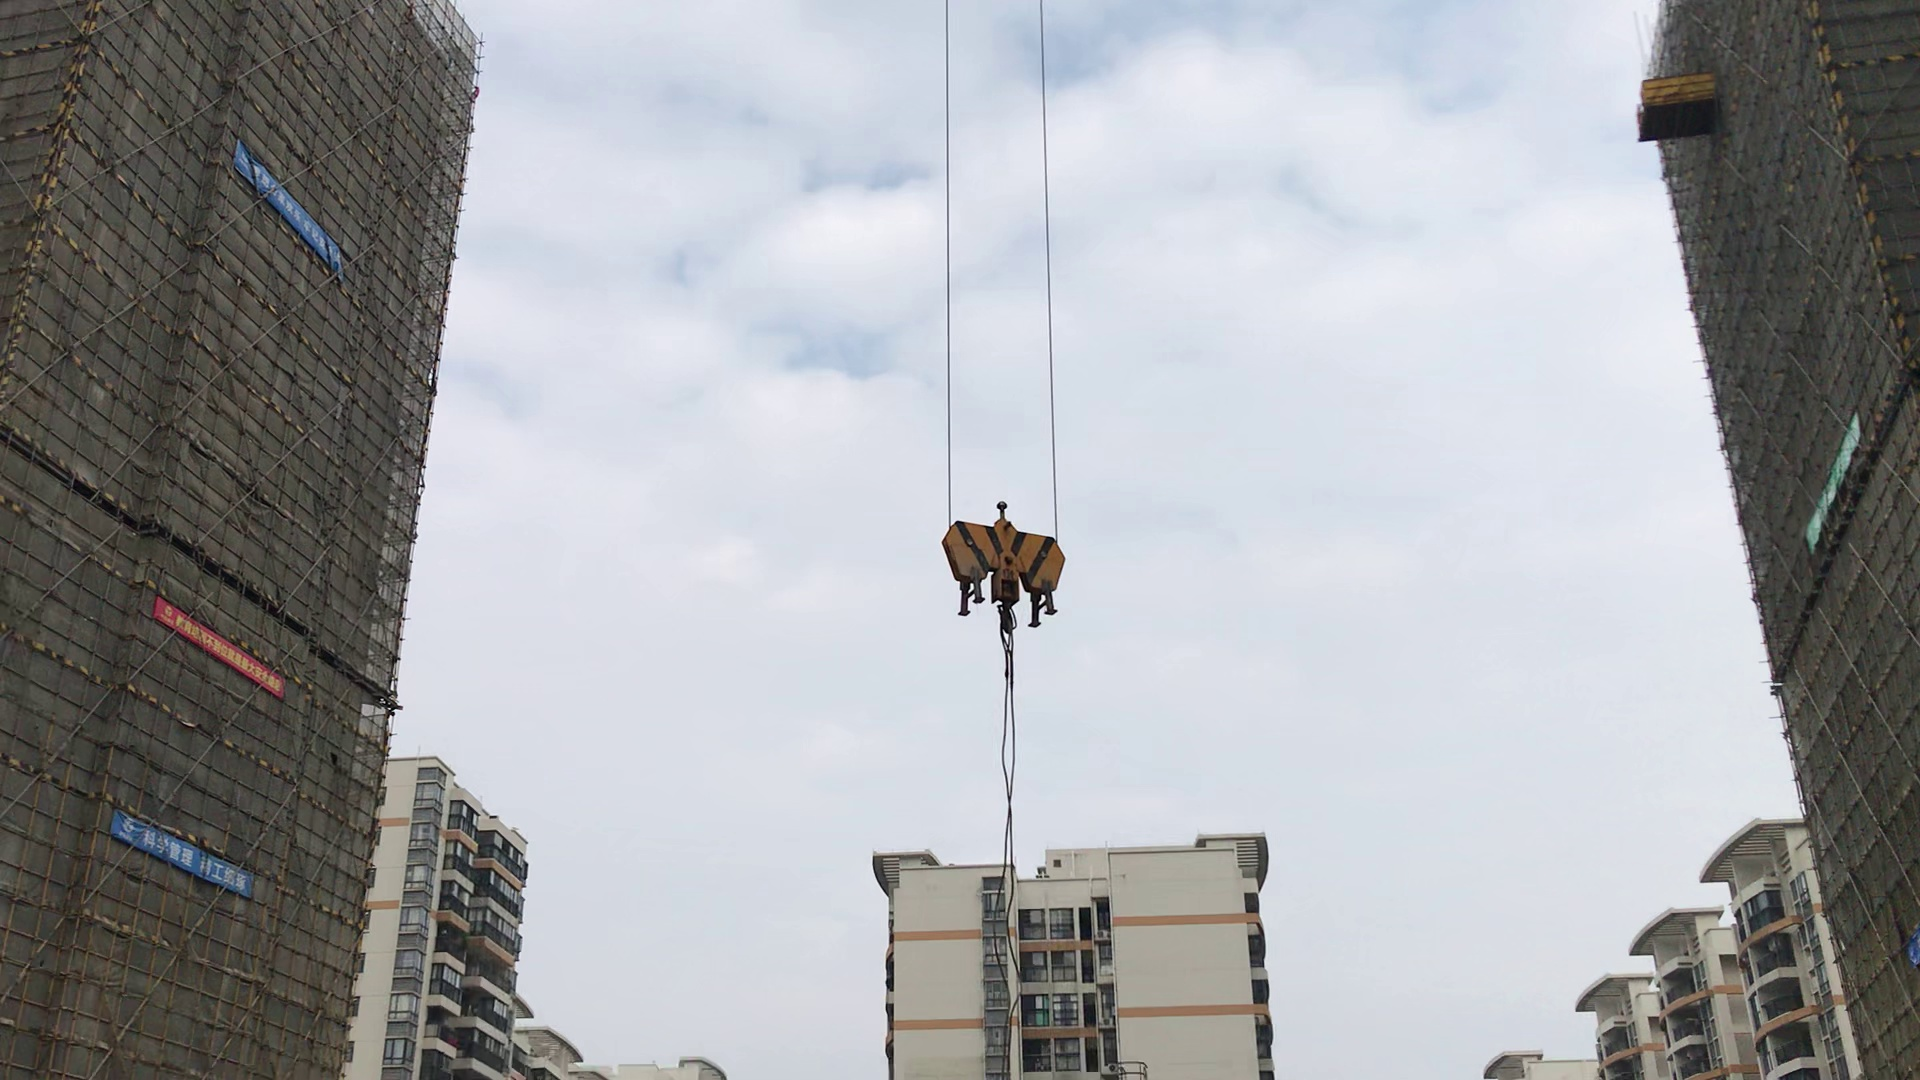hook: (944, 496, 1071, 632)
slogan: (229, 135, 342, 266), (157, 596, 284, 696), (111, 814, 253, 891), (1809, 423, 1863, 549)
